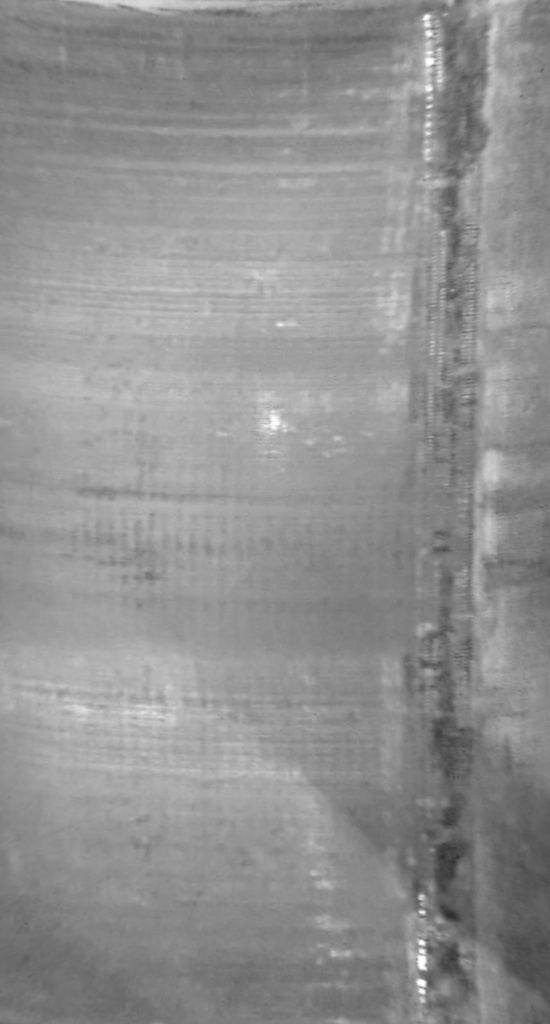splice: (402, 1, 505, 1022)
